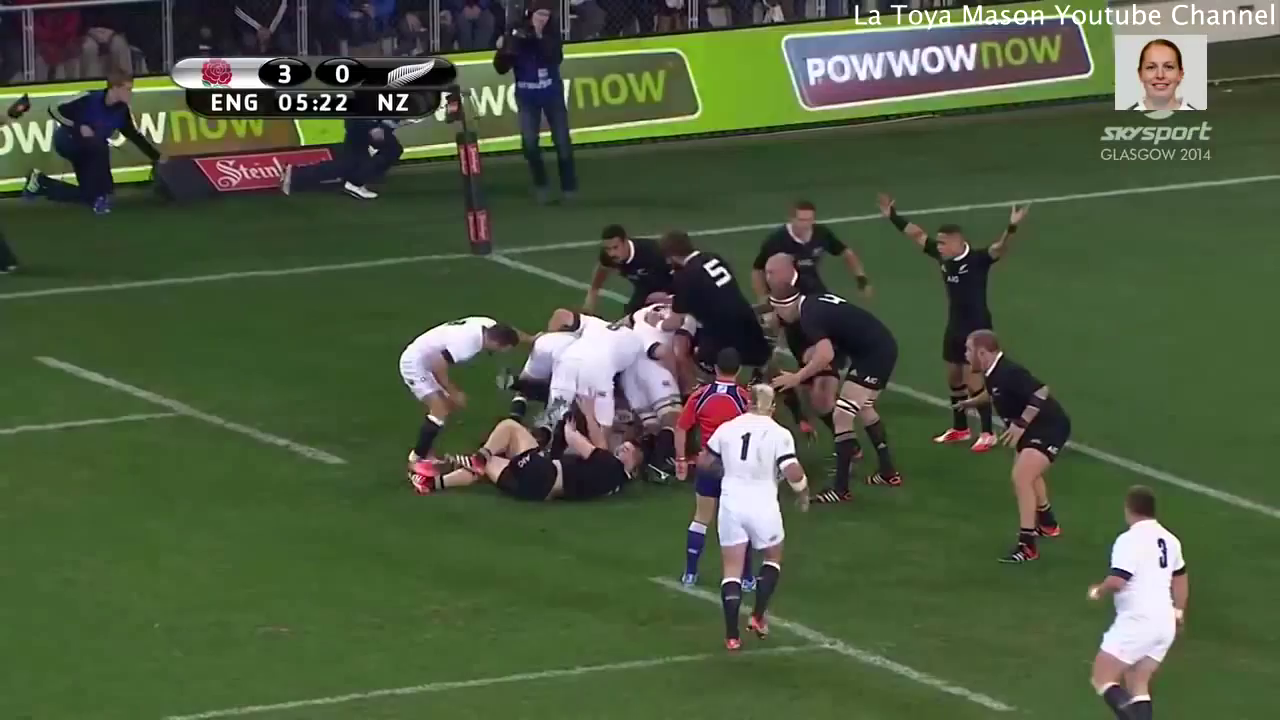player: (887, 188, 1022, 452), (770, 281, 910, 504), (1069, 480, 1198, 720), (957, 324, 1083, 569), (710, 377, 798, 649), (390, 305, 527, 479), (421, 409, 673, 497), (663, 232, 764, 362), (744, 203, 833, 294), (574, 217, 655, 287)
ruck: (383, 291, 805, 493)
